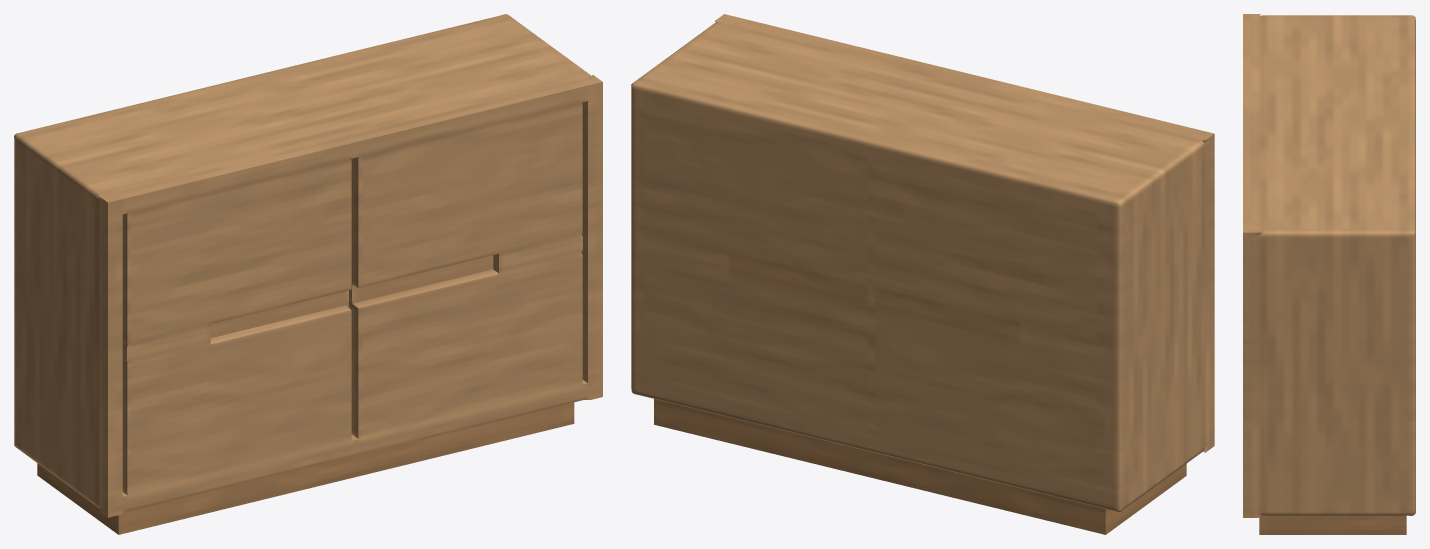
File: dexel.glb
The picture shows the model from 3 angles, left to right: view 1: azimuth 30°, elevation 25°; view 2: azimuth 150°, elevation 25°; view 3: azimuth 270°, elevation 25°; orthographic projection. The views are drawn at different scales.
Size of the model in its own units: 1.2 by 0.7966 by 0.4008.
1 material, 1 textured.
